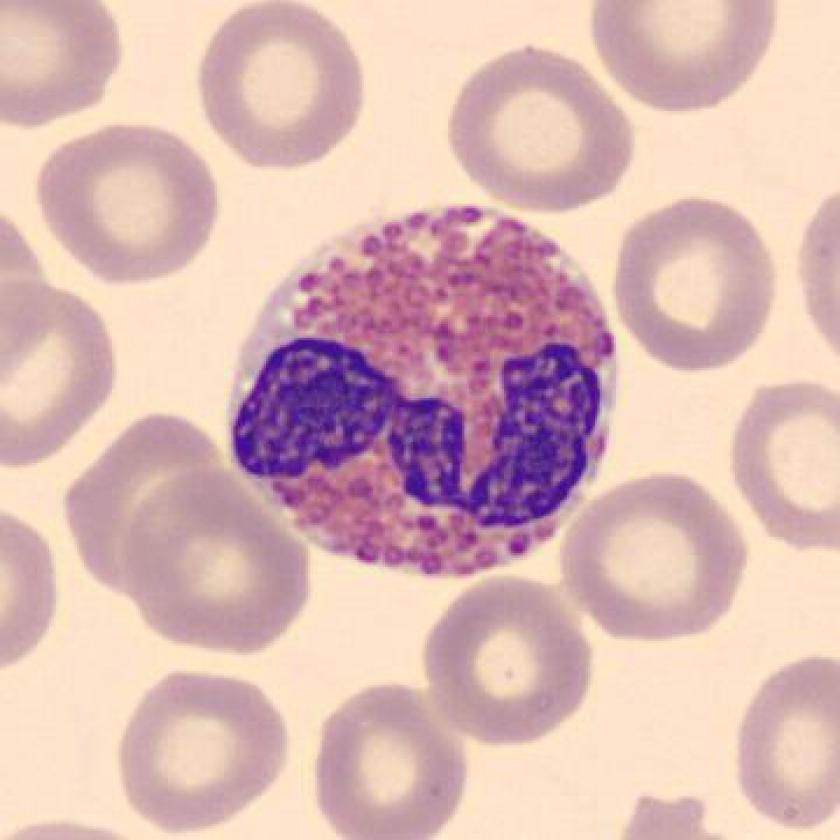eosinophil: (220, 193, 631, 589)
